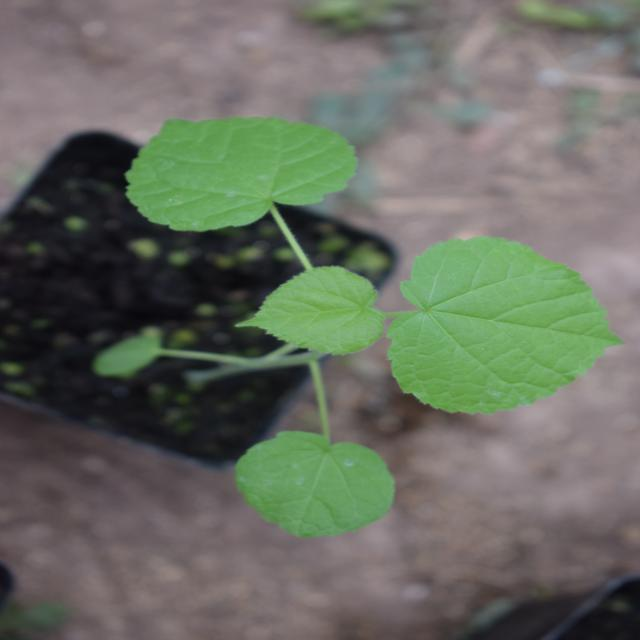abutilon theophrasti: (107, 21, 521, 480)
